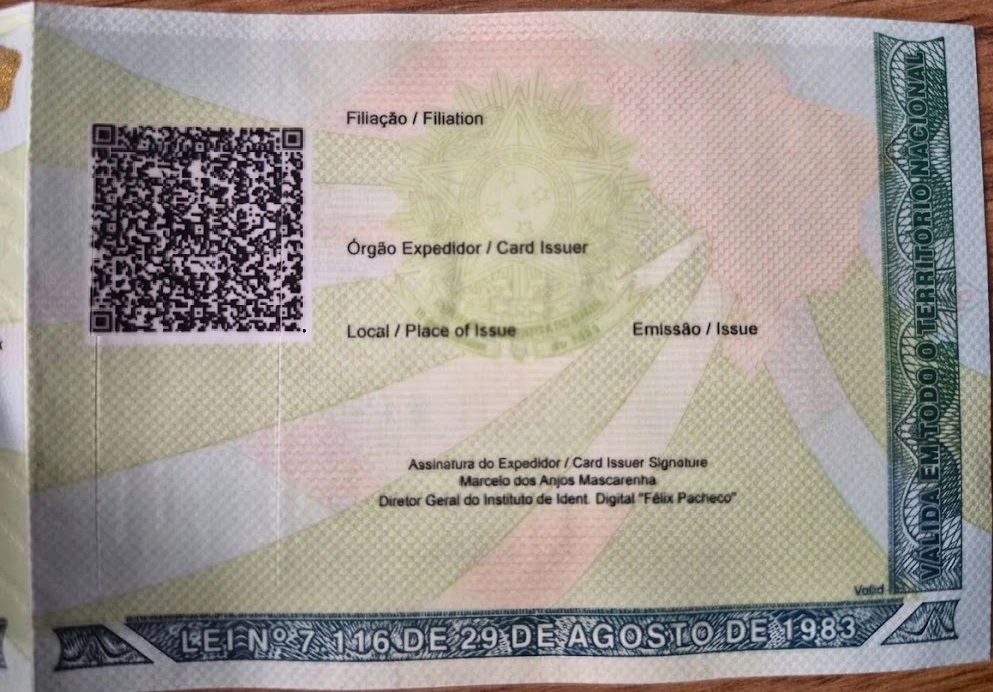card_issuer: (344, 260, 619, 320)
filiation: (344, 130, 863, 234)
issue_date: (631, 339, 863, 401)
place_of_issue: (346, 343, 621, 400)
